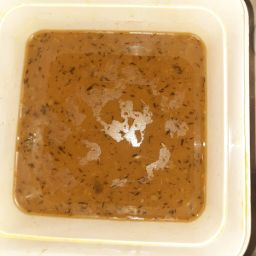Chicken Broth: (24, 26, 208, 223), (134, 33, 205, 223), (83, 33, 140, 219), (36, 36, 79, 222)
